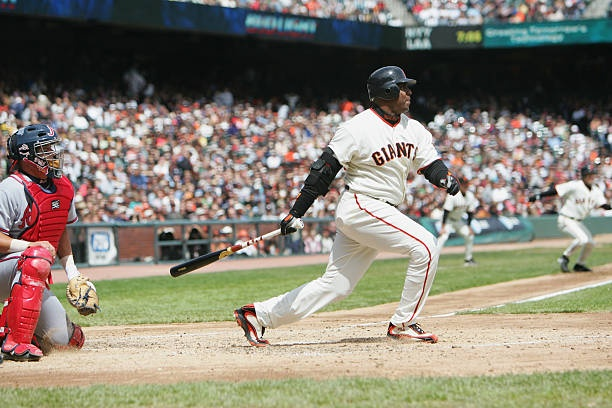bita: (169, 214, 302, 279)
